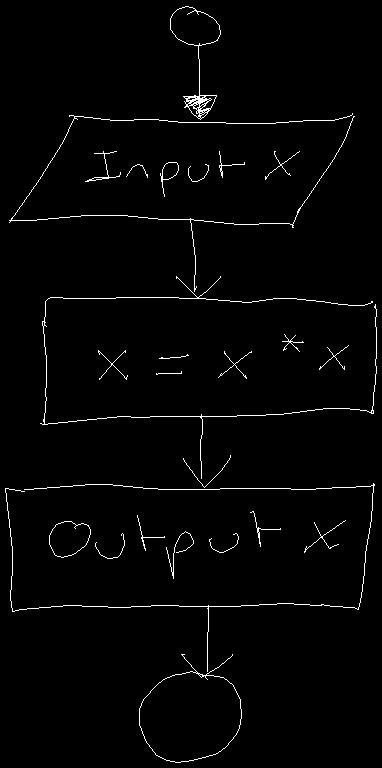arrow: (181, 605, 232, 677), (176, 218, 220, 297), (183, 414, 230, 487), (183, 43, 216, 119)
connection: (139, 671, 241, 762), (170, 6, 220, 45)
data: (9, 113, 354, 227)
process: (5, 483, 374, 611), (40, 297, 376, 424)
text: (49, 511, 345, 578), (98, 334, 348, 379), (85, 151, 299, 196)
